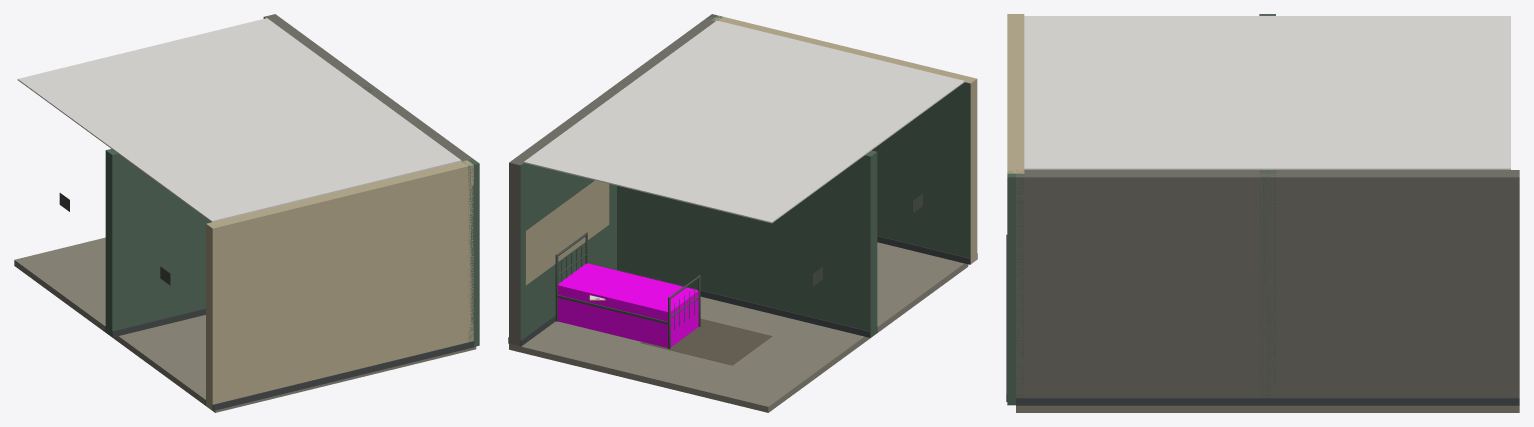
File: ENV_ClosedObservationRooms.glb
The picture shows the model from 3 angles, left to right: view 1: azimuth 30°, elevation 25°; view 2: azimuth 150°, elevation 25°; view 3: azimuth 270°, elevation 25°; orthographic projection. The views are drawn at different scales.
Visible parts, largest first — view 1: ENV_ClosedObservationRooms_Architecture, ENV_ClosedObservationRooms_Ceiling, ENV_ClosedObservationRooms_CellDivider, ENV_ClosedObservationRooms_Posts; view 2: ENV_ClosedObservationRooms_Architecture, ENV_ClosedObservationRooms_Ceiling, ENV_ClosedObservationRooms_CellDivider, PROP_Bed_Iron_Historic_COL-colonly.003, OBB_PaddedWall, ENV_ClosedObservationRooms_Decay, PROP_Bed_Iron_Historic_Mesh.003; view 3: ENV_ClosedObservationRooms_Architecture, ENV_ClosedObservationRooms_Ceiling, ENV_ClosedObservationRooms_Posts, ENV_ClosedObservationRooms_CellDivider.
Boxes of the visible parts, left/top/right/bottom form: ENV_ClosedObservationRooms_Architecture: left=14, top=14, right=476, bottom=412; ENV_ClosedObservationRooms_Ceiling: left=17, top=18, right=461, bottom=222; ENV_ClosedObservationRooms_CellDivider: left=105, top=86, right=376, bottom=337; ENV_ClosedObservationRooms_Posts: left=462, top=158, right=479, bottom=346; ENV_ClosedObservationRooms_Architecture: left=508, top=15, right=977, bottom=412; ENV_ClosedObservationRooms_Ceiling: left=524, top=20, right=964, bottom=223; ENV_ClosedObservationRooms_CellDivider: left=606, top=87, right=877, bottom=337; PROP_Bed_Iron_Historic_COL-colonly.003: left=558, top=263, right=698, bottom=347; OBB_PaddedWall: left=525, top=180, right=609, bottom=285; ENV_ClosedObservationRooms_Decay: left=640, top=319, right=772, bottom=365; PROP_Bed_Iron_Historic_Mesh.003: left=555, top=232, right=700, bottom=348; ENV_ClosedObservationRooms_Architecture: left=1006, top=14, right=1519, bottom=412; ENV_ClosedObservationRooms_Ceiling: left=1024, top=16, right=1510, bottom=169; ENV_ClosedObservationRooms_Posts: left=1007, top=170, right=1024, bottom=405; ENV_ClosedObservationRooms_CellDivider: left=1259, top=14, right=1275, bottom=397.
Size of what is drawn, in the model's own units: 4.61 by 3.12 by 6.11.
